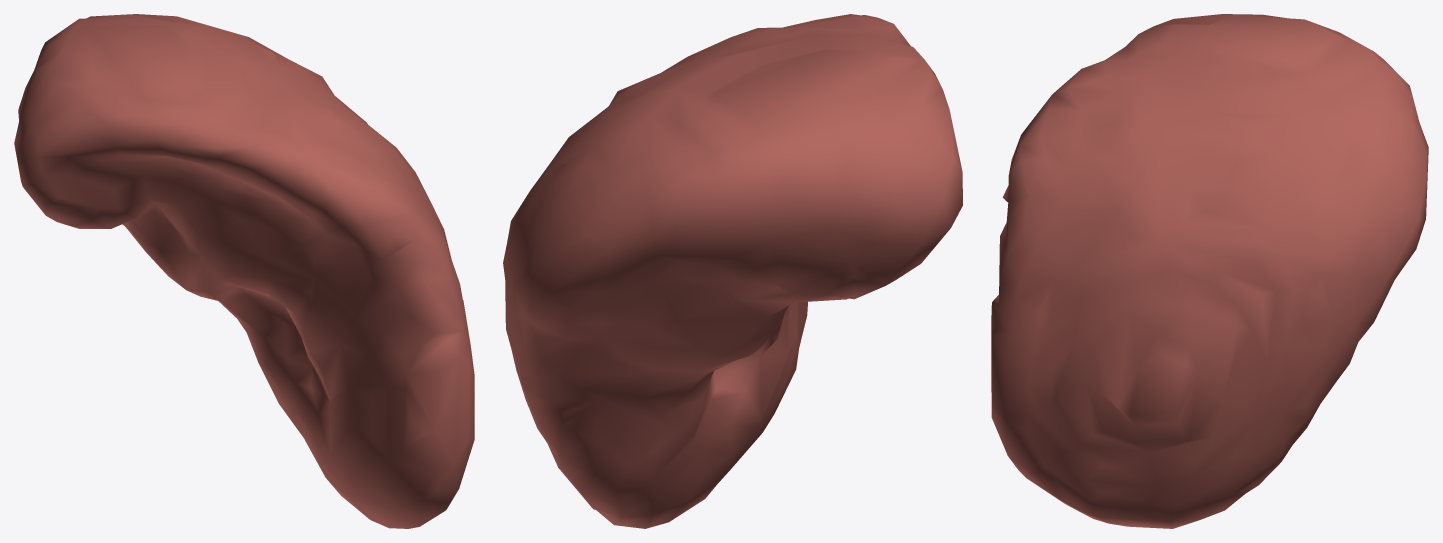
The model's file is tsd_s0327_older_adult_male.lymphatic.LOD3.glb.
3 views of the same model, side by side, from view 1: azimuth 30°, elevation 25°; view 2: azimuth 150°, elevation 25°; view 3: azimuth 270°, elevation 25° (orthographic). The views are drawn at different scales.
Parts seen in each view (by area): view 1: TSD_S0327.OLDER_ADULT.MALE.LYMPHATIC.SPLEEN; view 2: TSD_S0327.OLDER_ADULT.MALE.LYMPHATIC.SPLEEN; view 3: TSD_S0327.OLDER_ADULT.MALE.LYMPHATIC.SPLEEN.
Boxes of the visible parts, x1,y1,x2,y2 form: TSD_S0327.OLDER_ADULT.MALE.LYMPHATIC.SPLEEN: (14,14,474,528); TSD_S0327.OLDER_ADULT.MALE.LYMPHATIC.SPLEEN: (503,14,962,528); TSD_S0327.OLDER_ADULT.MALE.LYMPHATIC.SPLEEN: (991,14,1428,528).
Bounding box in the file's own units: 0.079 × 0.0946 × 0.0915.
